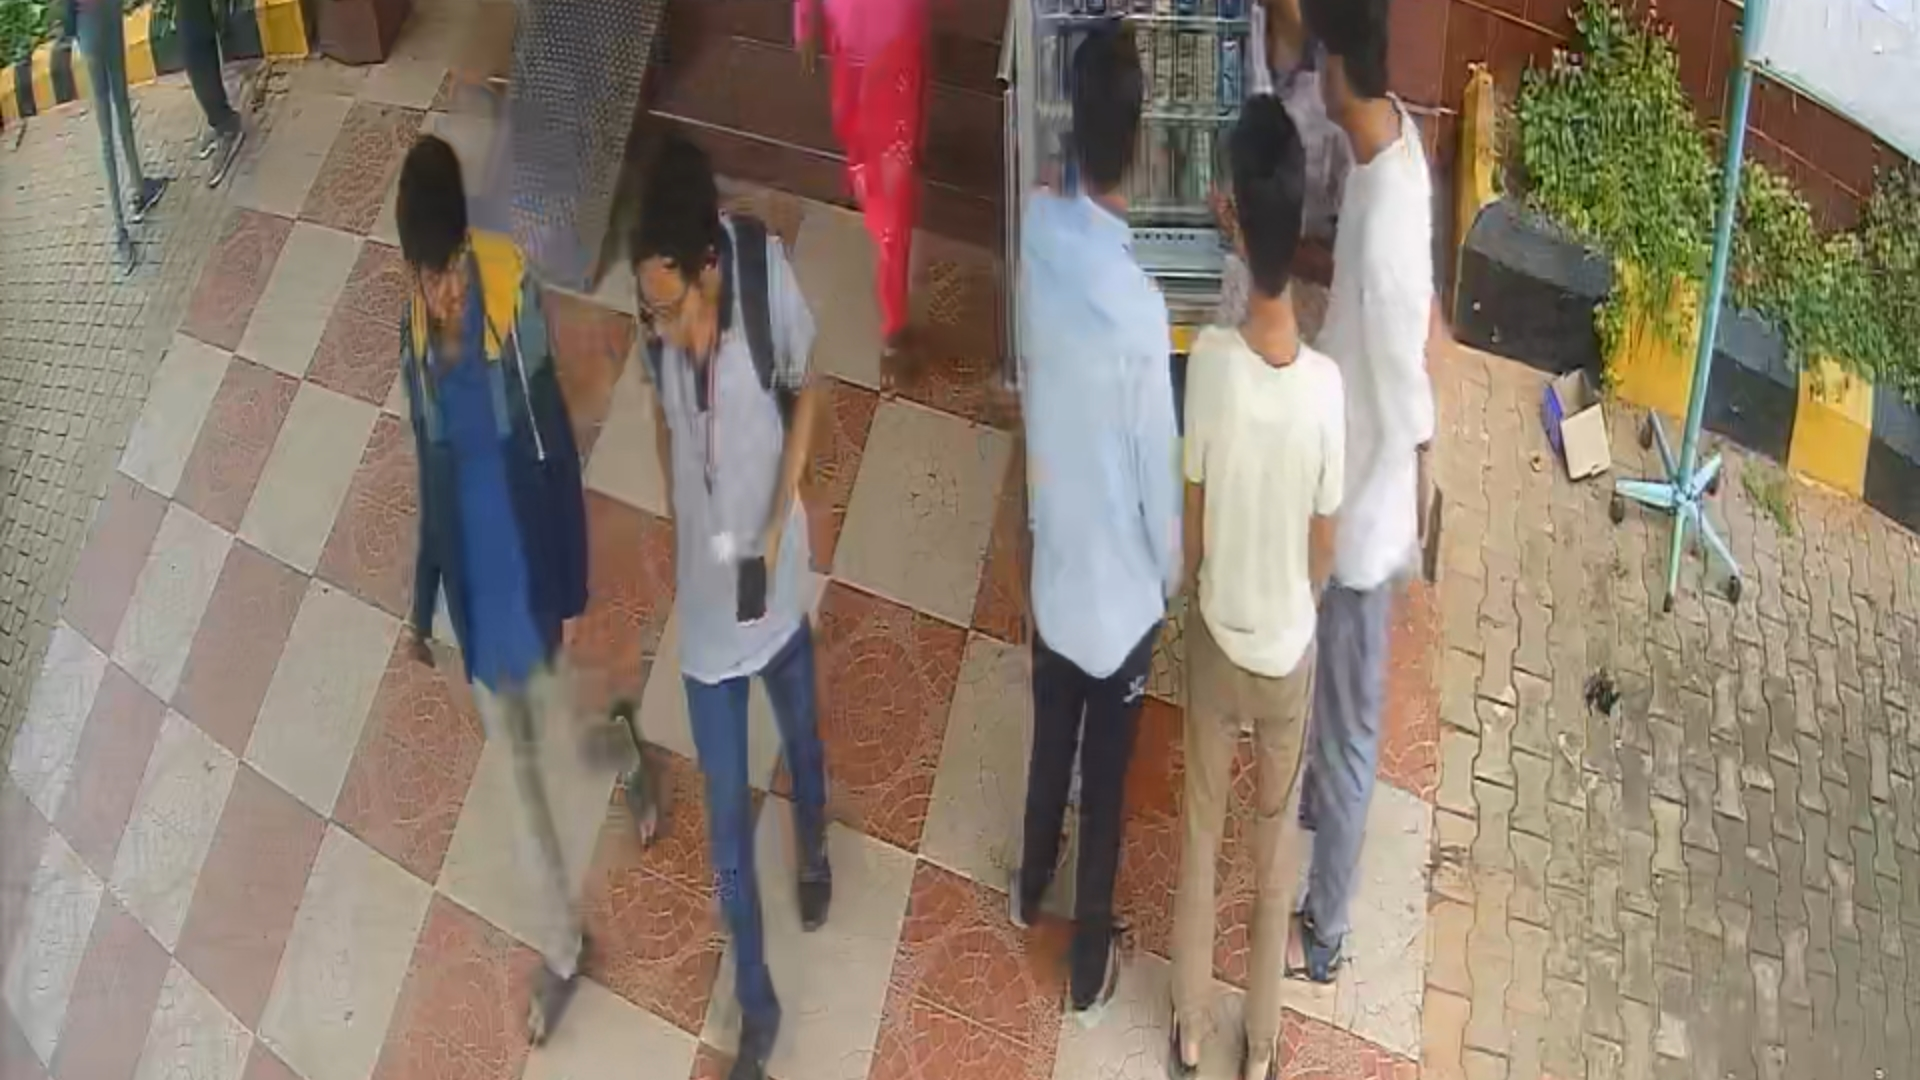intruder: (386, 121, 667, 1022)
not intruder: (618, 148, 899, 1076)
